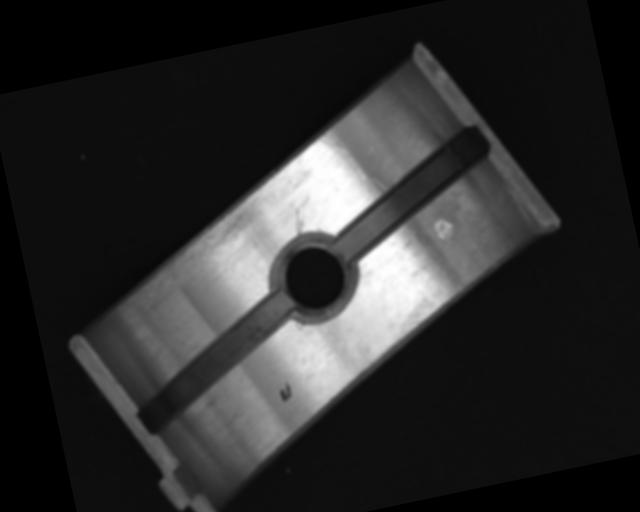blot: (277, 380, 294, 403)
bruise: (433, 216, 456, 242)
gap: (119, 291, 311, 433), (321, 128, 504, 257)
hole: (261, 231, 363, 329)
nick: (316, 125, 367, 190), (292, 207, 306, 237)
scratch: (102, 194, 272, 307)
